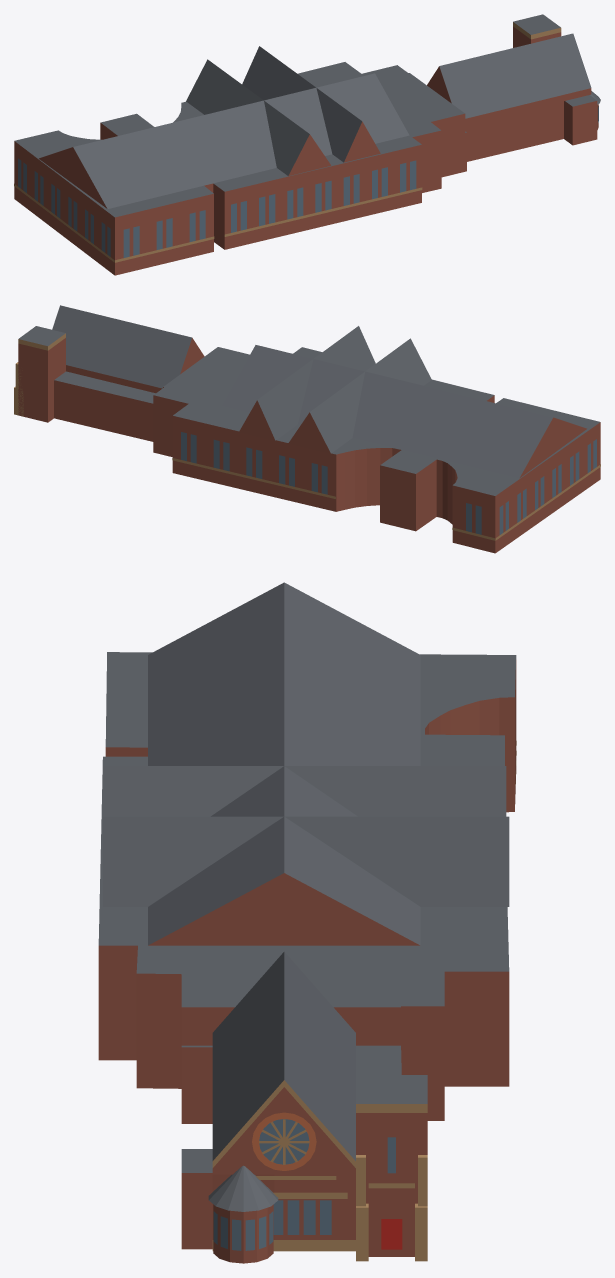
File: clt-st-peters-episcopal.glb
The picture shows the model from 3 angles, top to bottom: view 1: azimuth 30°, elevation 25°; view 2: azimuth 150°, elevation 25°; view 3: azimuth 270°, elevation 25°; orthographic projection. The views are drawn at different scales.
Visible parts, largest first — view 1: St. Peter's Episcopal Church; view 2: St. Peter's Episcopal Church; view 3: St. Peter's Episcopal Church.
Boxes of the visible parts, x1,y1,x2,y2 form: St. Peter's Episcopal Church: (14, 14, 600, 275); St. Peter's Episcopal Church: (14, 305, 600, 553); St. Peter's Episcopal Church: (98, 582, 516, 1263).
Size of the model in its own units: 83.97 by 14.7 by 29.78.
